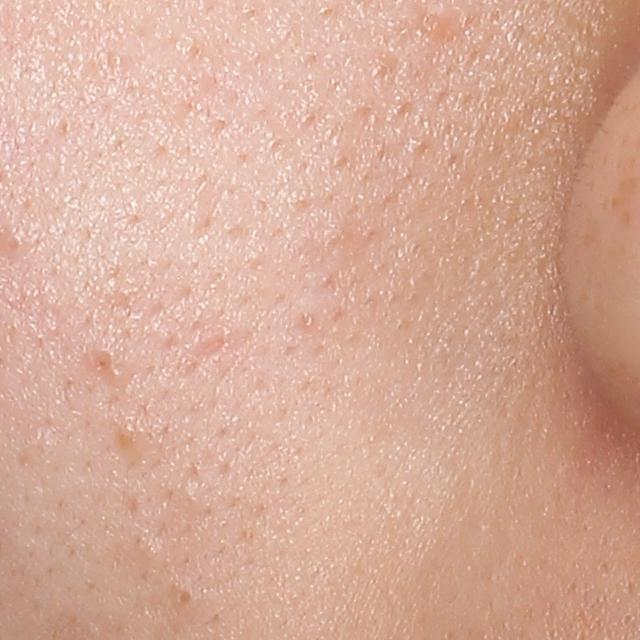comedo: (416, 4, 453, 45), (168, 580, 201, 614), (2, 230, 24, 255)
